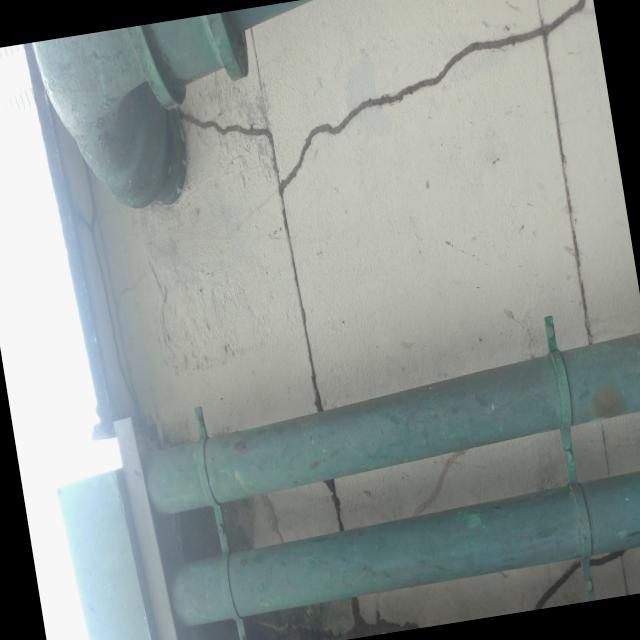gas: (136, 319, 640, 524), (163, 461, 640, 640)
